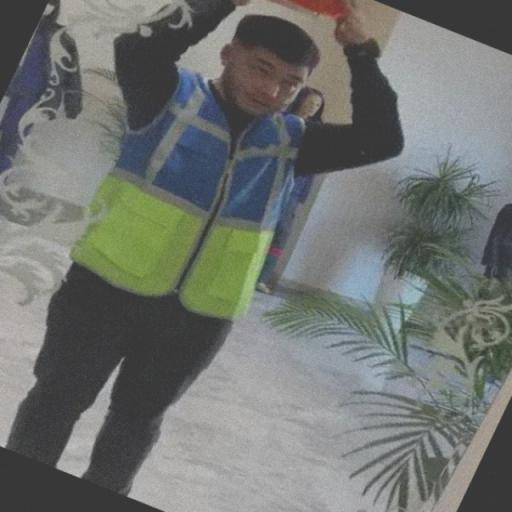Person: (20, 0, 422, 496)
none: (230, 49, 321, 92)
vest: (69, 65, 316, 346)
